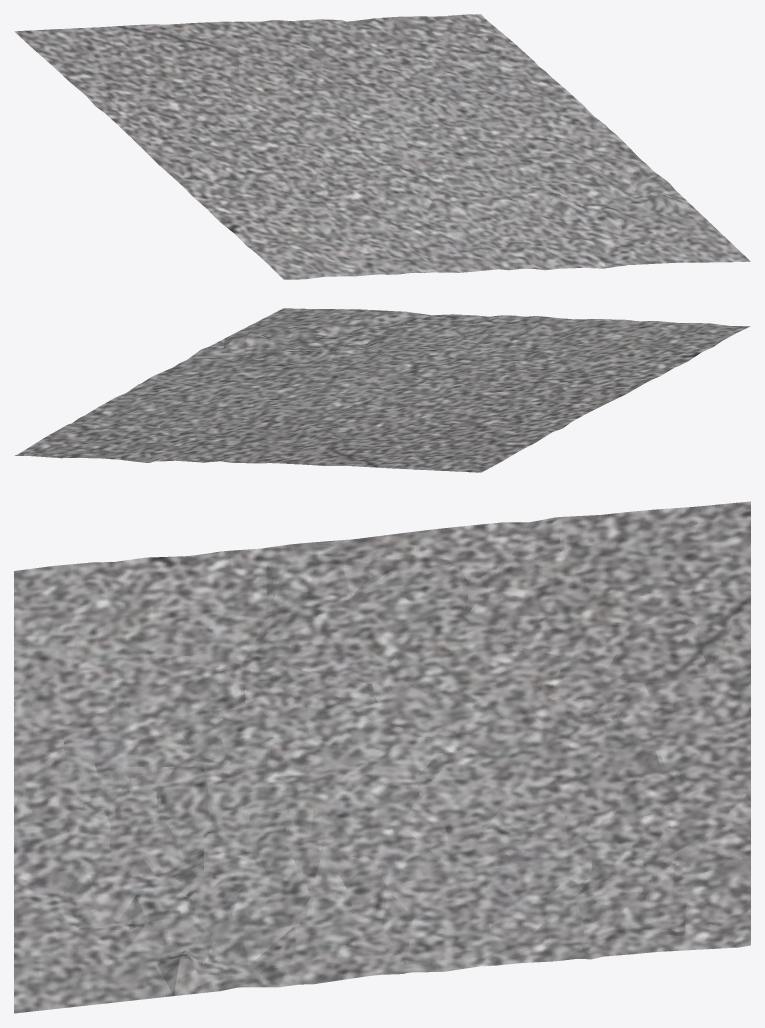
The picture shows the model from 3 angles, top to bottom: view 1: azimuth 30°, elevation 25°; view 2: azimuth 150°, elevation 25°; view 3: azimuth 270°, elevation 25°; orthographic projection. The views are drawn at different scales.
Bounding box in the file's own units: 0.8373 × 0.2516 × 0.8373.
Materials: 3 (3 with a texture image).
